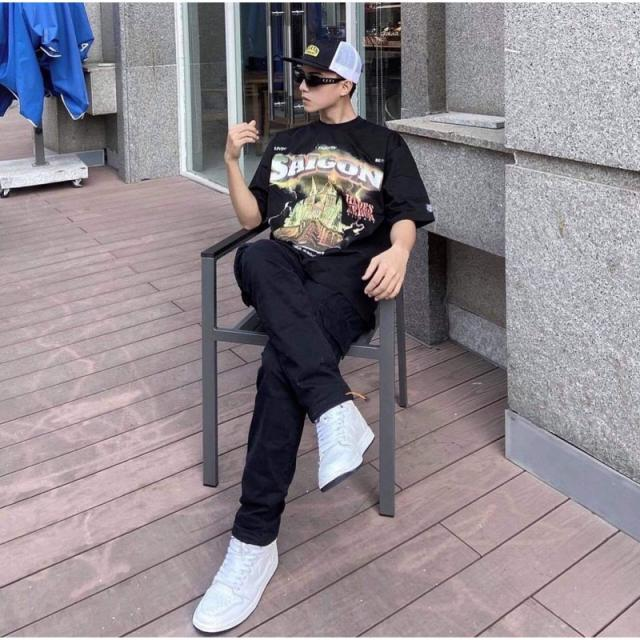Shirt: (240, 108, 440, 310)
